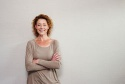female: (32, 15, 53, 40)
